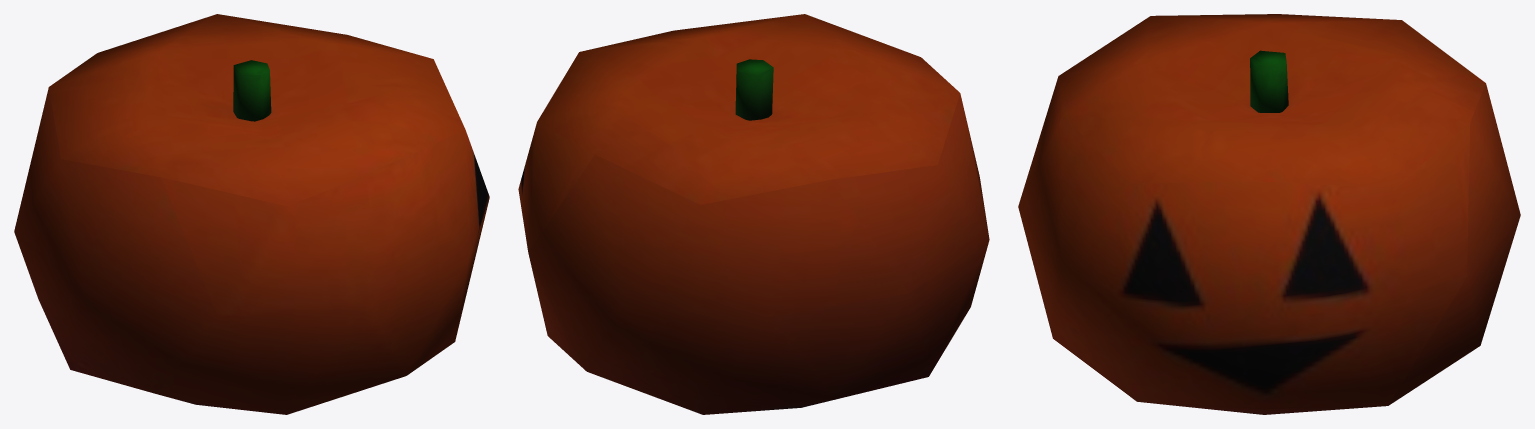
The model's file is pumkin-mask2.dae.
3 renders of one model, left to right at view 1: azimuth 30°, elevation 25°; view 2: azimuth 150°, elevation 25°; view 3: azimuth 270°, elevation 25°, orthographic. The views are drawn at different scales.
Parts seen in each view (by area): view 1: Icosphere; view 2: Icosphere; view 3: Icosphere.
Boxes of the visible parts, x1,y1,x2,y2 form: Icosphere: (14, 14, 489, 414); Icosphere: (518, 14, 989, 414); Icosphere: (1018, 14, 1520, 414).
Bounding box in the file's own units: 0.2796 × 0.2903 × 0.1963.
1 material, 1 textured.
